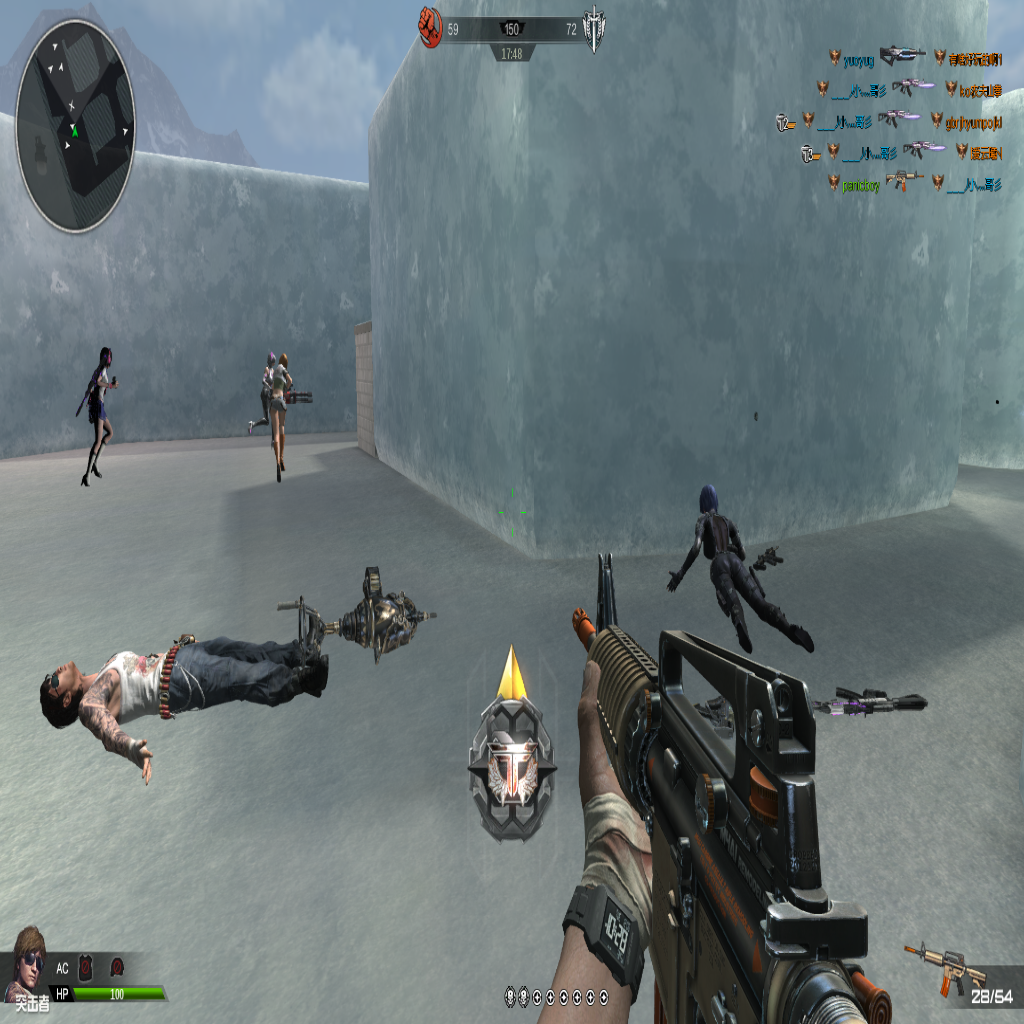tt: (81, 347, 118, 484), (267, 352, 293, 479), (261, 357, 274, 426)
